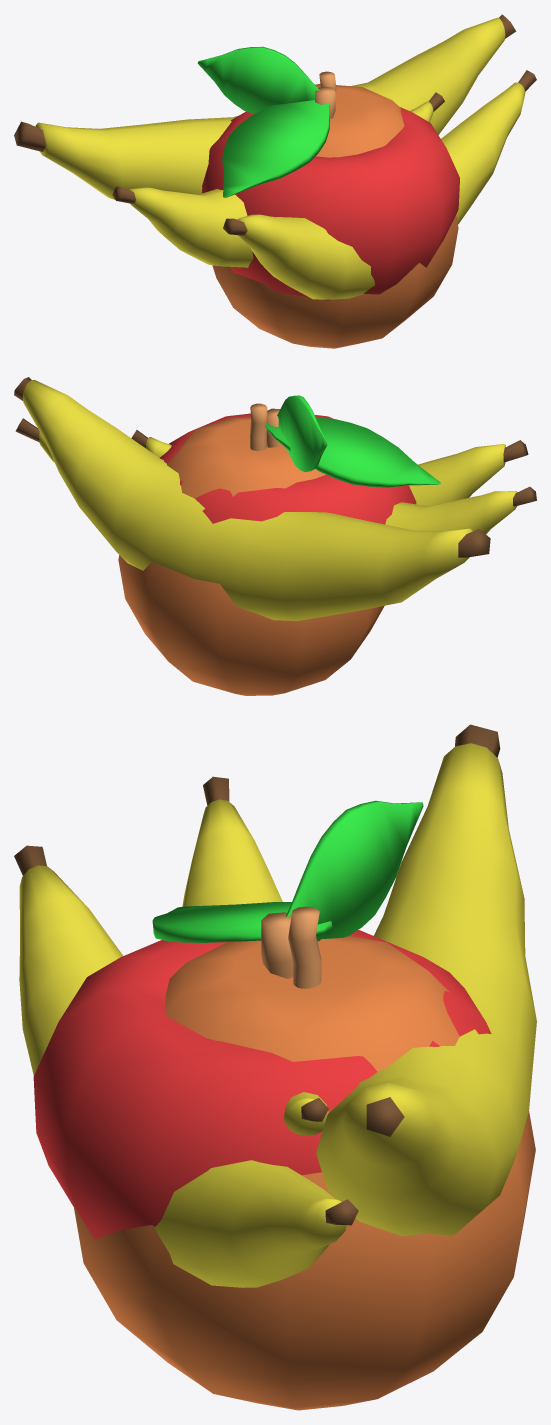
The model's file is Fruits.fbx.
3 renders of one model, top to bottom at view 1: azimuth 30°, elevation 25°; view 2: azimuth 150°, elevation 25°; view 3: azimuth 270°, elevation 25°, orthographic. The views are drawn at different scales.
Parts seen in each view (by area): view 1: Banana_top_001, Apple_Leaf, OrangeB; view 2: Banana_top_001, OrangeB, Apple_Leaf; view 3: Banana_top_001, OrangeB, Apple_Leaf.
Boxes of the visible parts, x1,y1,x2,y2 form: Banana_top_001: (14, 14, 536, 299); Apple_Leaf: (197, 46, 459, 300); OrangeB: (212, 71, 458, 348); Banana_top_001: (14, 377, 536, 620); OrangeB: (118, 403, 440, 695); Apple_Leaf: (160, 395, 416, 524); Banana_top_001: (14, 724, 536, 1287); OrangeB: (73, 902, 535, 1410); Apple_Leaf: (33, 800, 491, 1239).
Bounding box in the file's own units: 62.27 × 36.17 × 32.26.
